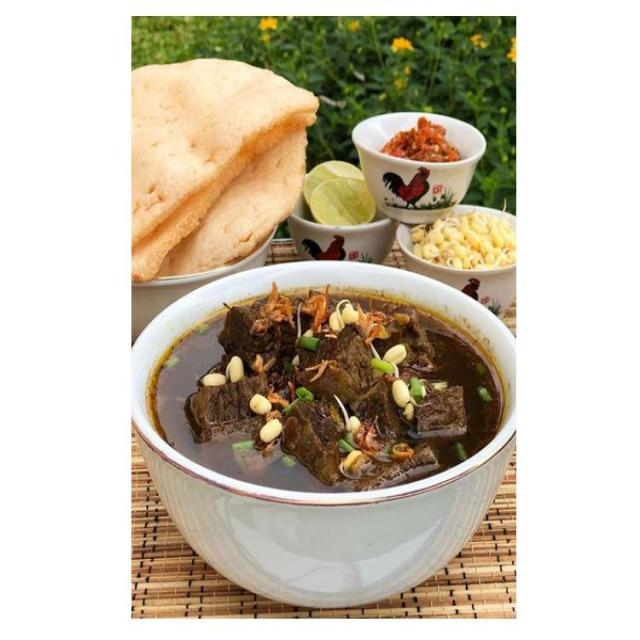Rawon: (163, 276, 504, 492)
